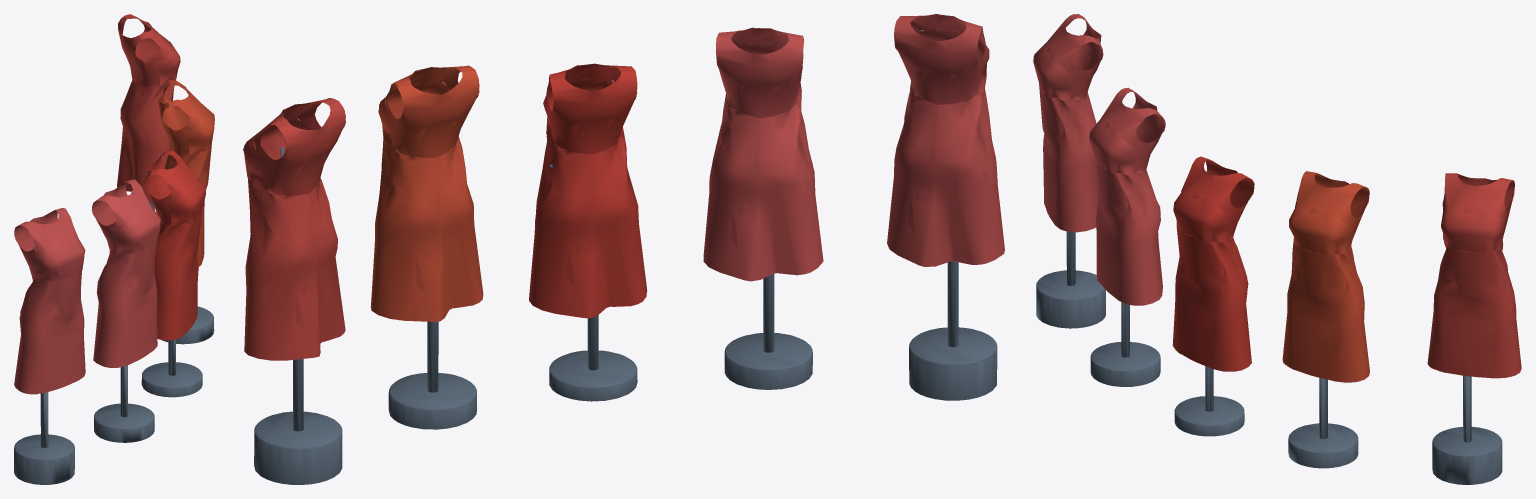
Rendered from Corner_mannequins.fbx.
The picture shows the model from 3 angles, left to right: view 1: azimuth 30°, elevation 25°; view 2: azimuth 150°, elevation 25°; view 3: azimuth 270°, elevation 25°; orthographic projection. The views are drawn at different scales.
Parts seen in each view (by area): view 1: Dress 17, Dress 17.001, Dress 17.002, Dress 17.004, Dress 17.003, Dummy.006, Dummy.008, Dummy.010, Dummy.004; view 2: Dress 17.001, Dress 17.002, Dress 17, Dress 17.003, Dress 17.004, Dummy.006, Dummy.012, Dummy.008, Dummy.004, Dummy.010; view 3: Dress 17.004, Dress 17.003, Dress 17.002, Dress 17.001, Dress 17, Dummy.012, Dummy.006, Dummy.004, Dummy.008, Dummy.010.
Part boxes in pixels (<box>): Dress 17: <box>14,208,85,394</box>; Dress 17.001: <box>92,179,160,367</box>; Dress 17.002: <box>144,150,205,340</box>; Dress 17.004: <box>117,14,180,201</box>; Dress 17.003: <box>158,80,214,266</box>; Dummy.006: <box>14,392,74,484</box>; Dummy.008: <box>94,365,154,442</box>; Dummy.010: <box>141,213,202,397</box>; Dummy.004: <box>162,306,214,344</box>; Dress 17.001: <box>703,27,823,281</box>; Dress 17.002: <box>529,63,647,318</box>; Dress 17: <box>887,14,1004,266</box>; Dress 17.003: <box>370,65,483,321</box>; Dress 17.004: <box>243,98,345,360</box>; Dummy.006: <box>909,261,997,400</box>; Dummy.012: <box>254,147,342,484</box>; Dummy.008: <box>724,273,812,389</box>; Dummy.004: <box>388,321,476,429</box>; Dummy.010: <box>549,164,637,401</box>; Dress 17.004: <box>1427,173,1521,378</box>; Dress 17.003: <box>1282,171,1369,382</box>; Dress 17.002: <box>1172,156,1254,371</box>; Dress 17.001: <box>1089,87,1165,305</box>; Dress 17: <box>1033,14,1103,232</box>; Dummy.012: <box>1432,375,1502,484</box>; Dummy.006: <box>1036,231,1105,328</box>; Dummy.004: <box>1288,378,1358,468</box>; Dummy.008: <box>1090,302,1160,386</box>; Dummy.010: <box>1174,255,1244,436</box>.
Bounding box in the file's own units: 416 × 300 × 455.
